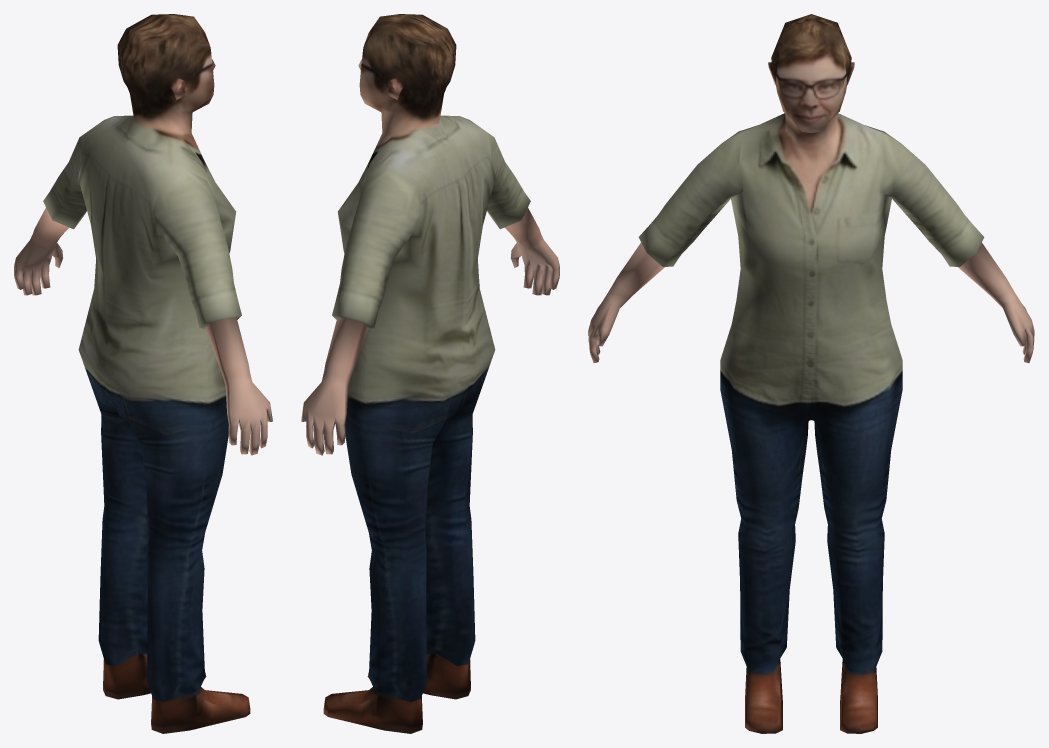
File: Character_38_Female.fbx
The picture shows the model from 3 angles, left to right: view 1: azimuth 30°, elevation 25°; view 2: azimuth 150°, elevation 25°; view 3: azimuth 270°, elevation 25°; orthographic projection.
Visible parts, largest first — view 1: Character_38_Female; view 2: Character_38_Female; view 3: Character_38_Female.
Boxes of the visible parts, box(x1,y1,x2,y2) form: Character_38_Female: box(14, 14, 272, 733); Character_38_Female: box(301, 14, 559, 733); Character_38_Female: box(588, 14, 1034, 733).
Bounding box in the file's own units: 0.3013 × 1.56 × 0.9234.
